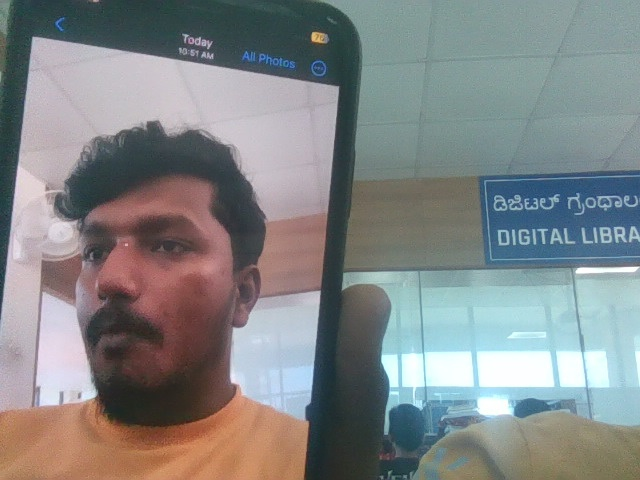fake: (45, 98, 268, 414)
